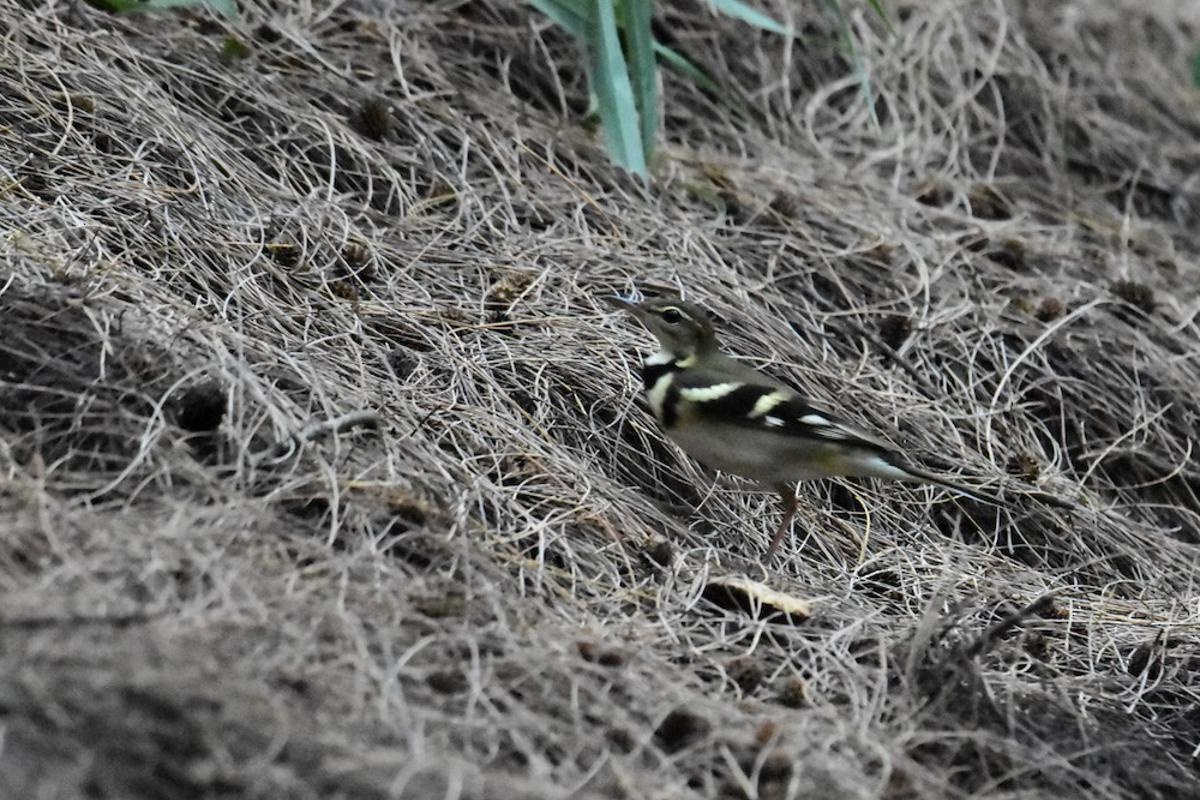wagtail: (624, 303, 917, 540)
